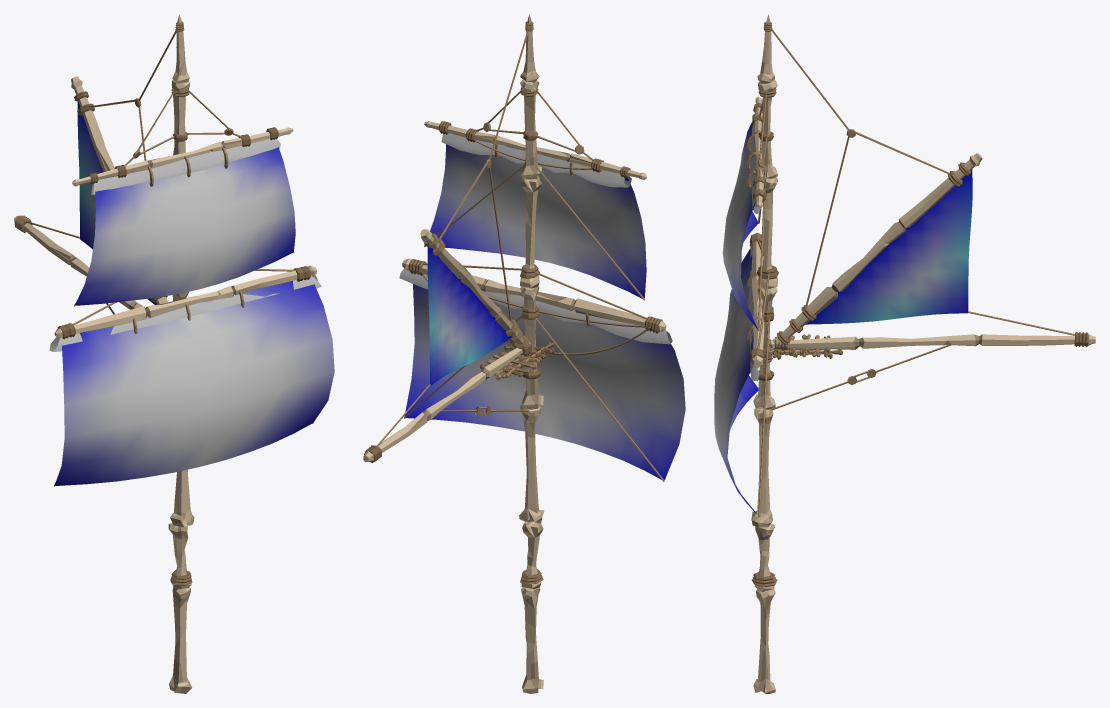
The model's file is SM_Veh_Ship_L_Mast_Back_02.fbx.
3 renders of one model, left to right at view 1: azimuth 30°, elevation 25°; view 2: azimuth 150°, elevation 25°; view 3: azimuth 270°, elevation 25°, orthographic.
Visible parts, largest first — view 1: SM_Veh_Ship_L_Mast_Back_01_Boom_02_Sails_Down_01, SM_Veh_Ship_L_Mast_Back_02, SM_Veh_Ship_L_Mast_Back_02_Boom_01, SM_Veh_Ship_L_Mast_Back_02_Base_02; view 2: SM_Veh_Ship_L_Mast_Back_01_Boom_02_Sails_Down_01, SM_Veh_Ship_L_Mast_Back_02, SM_Veh_Ship_L_Mast_Back_02_Boom_01, SM_Veh_Ship_L_Mast_Back_02_Base_02; view 3: SM_Veh_Ship_L_Mast_Back_02, SM_Veh_Ship_L_Mast_Back_01_Boom_02_Sails_Down_01, SM_Veh_Ship_L_Mast_Back_02_Base_02, SM_Veh_Ship_L_Mast_Back_02_Boom_01.
Boxes of the visible parts, x1,y1,x2,y2 form: SM_Veh_Ship_L_Mast_Back_01_Boom_02_Sails_Down_01: (54,147,334,486); SM_Veh_Ship_L_Mast_Back_02: (14,14,316,589); SM_Veh_Ship_L_Mast_Back_02_Boom_01: (49,139,321,351); SM_Veh_Ship_L_Mast_Back_02_Base_02: (169,586,191,693); SM_Veh_Ship_L_Mast_Back_01_Boom_02_Sails_Down_01: (404,144,685,481); SM_Veh_Ship_L_Mast_Back_02: (363,14,666,589); SM_Veh_Ship_L_Mast_Back_02_Boom_01: (399,133,672,344); SM_Veh_Ship_L_Mast_Back_02_Base_02: (521,587,543,693); SM_Veh_Ship_L_Mast_Back_02: (749,14,1095,592); SM_Veh_Ship_L_Mast_Back_01_Boom_02_Sails_Down_01: (714,122,769,517); SM_Veh_Ship_L_Mast_Back_02_Base_02: (753,589,775,693); SM_Veh_Ship_L_Mast_Back_02_Boom_01: (746,113,761,381).
Size of the model in its own units: 1489 by 3559 by 1813.
